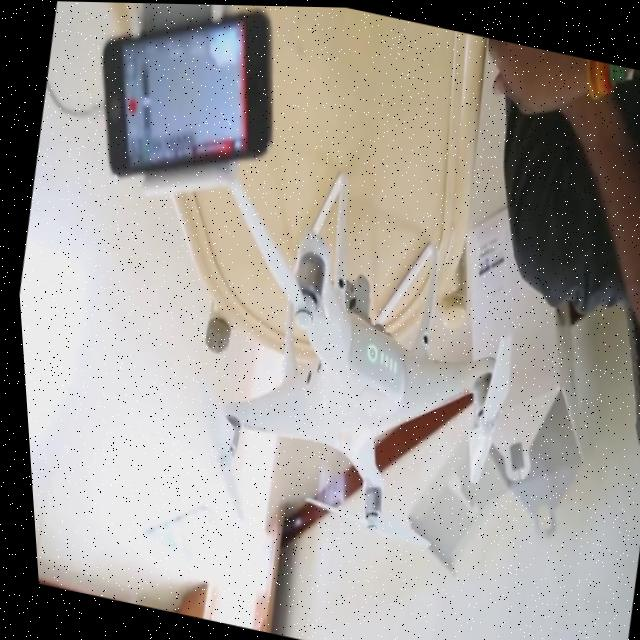drones: (128, 120, 566, 594)
